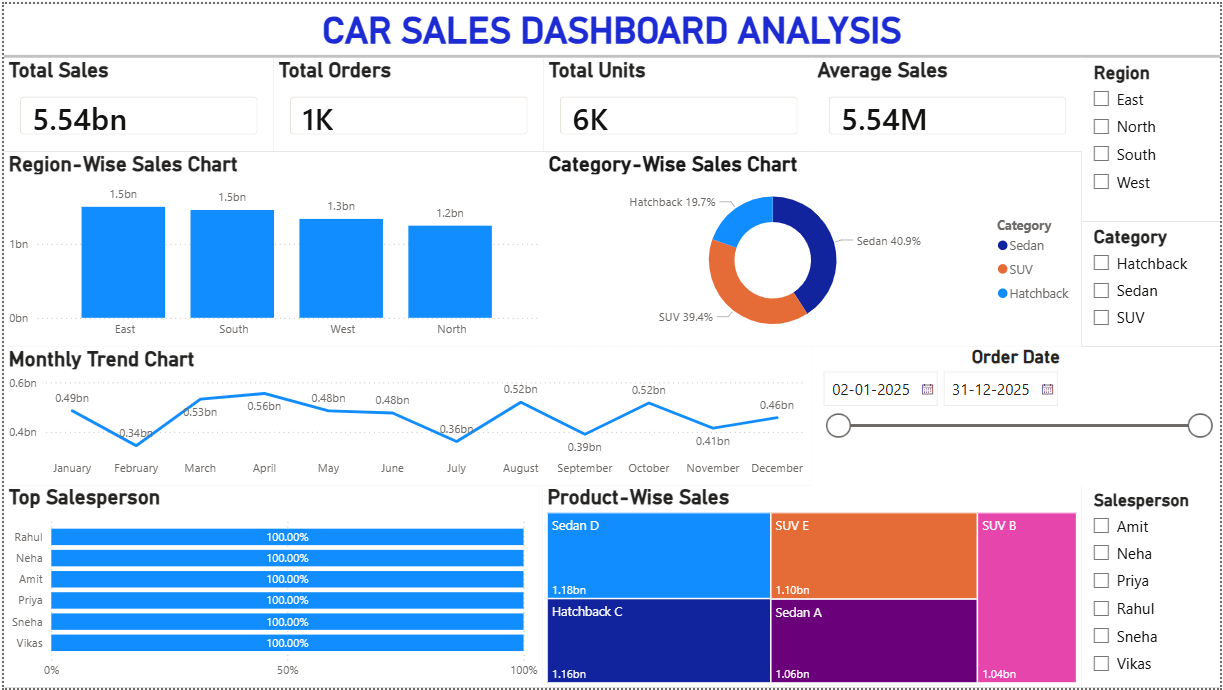

Layout of this report page (visuals, bound fields, positions):
{"tool":"powerbi","page":{"name":"Car Sales Dashboard","canvas":[1280,720],"ordinal":0},"visuals":[{"type":"donutChart","title":"Category-Wise Sales Chart","fields":{"Category":["Car_Sales_Dataset_1000 (1).Category"],"Y":["Car_Sales_Dataset_1000 (1).Measure 2"]},"box":[402.1,156.4,402.1,236],"z":0},{"type":"clusteredColumnChart","title":"Region-Wise Sales Chart","fields":{"Y":["Car_Sales_Dataset_1000 (1).Measure"],"Category":["Car_Sales_Dataset_1000 (1).Region"]},"box":[0,156.4,402.1,236],"z":1000},{"type":"lineChart","title":"Monthly Trend Chart","fields":{"Category":["Car_Sales_Dataset_1000 (1).OrderDate.Variation.Date Hierarchy.Month"],"Y":["Car_Sales_Dataset_1000 (1).Measure"]},"box":[0,391.1,576.3,219.6],"z":2000},{"type":"hundredPercentStackedBarChart","title":"Top Salesperson","fields":{"Y":["Car_Sales_Dataset_1000 (1).Measure"],"Category":["Car_Sales_Dataset_1000 (1).Salesperson"]},"box":[576.3,391.1,558.5,219.6],"z":3000},{"type":"textbox","box":[0,0,1280.3,53.5],"z":4000},{"type":"treemap","title":"Product-Wise Sales","fields":{"Values":["Car_Sales_Dataset_1000 (1).Measure"],"Group":["Car_Sales_Dataset_1000 (1).Product"]},"box":[804.1,156.4,330.7,236],"z":5000},{"type":"actionButton","box":[0,0,100,40],"z":6000},{"type":"slicer","title":"Slicers","fields":{"Values":["Car_Sales_Dataset_1000 (1).Region"]},"box":[1134.8,56.3,140,172.9],"z":7000},{"type":"cardVisual","title":"Total Sales","fields":{"Data":["Car_Sales_Dataset_1000 (1).Total Sales"]},"box":[0,56.3,284,98.8],"z":8000},{"type":"cardVisual","title":"Total Orders","fields":{"Data":["Car_Sales_Dataset_1000 (1).Total Orders"]},"box":[284,56.3,284,98.8],"z":9000},{"type":"cardVisual","title":"Total Units","fields":{"Data":["Car_Sales_Dataset_1000 (1).Total Units"]},"box":[568.1,56.3,284,98.8],"z":10000},{"type":"cardVisual","title":"Average Sales","fields":{"Data":["Car_Sales_Dataset_1000 (1).Measure 4"]},"box":[850.8,56.3,284,98.8],"z":11000},{"type":"slicer","fields":{"Values":["Car_Sales_Dataset_1000 (1).Category"]},"box":[1134.8,462.4,140,148.2],"z":12000},{"type":"slicer","fields":{"Values":["Car_Sales_Dataset_1000 (1).Salesperson"]},"box":[1134.8,229.2,140,233.3],"z":13000},{"type":"slicer","title":"Order Date","fields":{"Values":["Car_Sales_Dataset_1000 (1).OrderDate"]},"box":[0,610.6,1274.8,109.8],"z":14000}]}

Visuals, with their boxes in screenshot pixels (x1, y1, x2, y2), scaled from the page's 1280x720 canvas onto the 1223x690 screenshot:
"Category-Wise Sales Chart" donutChart: bbox=[384, 150, 768, 376]
"Region-Wise Sales Chart" clusteredColumnChart: bbox=[0, 150, 384, 376]
"Monthly Trend Chart" lineChart: bbox=[0, 375, 551, 585]
"Top Salesperson" hundredPercentStackedBarChart: bbox=[551, 375, 1084, 585]
textbox: bbox=[0, 0, 1222, 51]
"Product-Wise Sales" treemap: bbox=[768, 150, 1084, 376]
actionButton: bbox=[0, 0, 96, 38]
"Slicers" slicer: bbox=[1084, 54, 1218, 220]
"Total Sales" cardVisual: bbox=[0, 54, 271, 149]
"Total Orders" cardVisual: bbox=[271, 54, 543, 149]
"Total Units" cardVisual: bbox=[543, 54, 814, 149]
"Average Sales" cardVisual: bbox=[813, 54, 1084, 149]
slicer - Car_Sales_Dataset_1000 (1).Category: bbox=[1084, 443, 1218, 585]
slicer - Car_Sales_Dataset_1000 (1).Salesperson: bbox=[1084, 220, 1218, 443]
"Order Date" slicer: bbox=[0, 585, 1218, 689]
